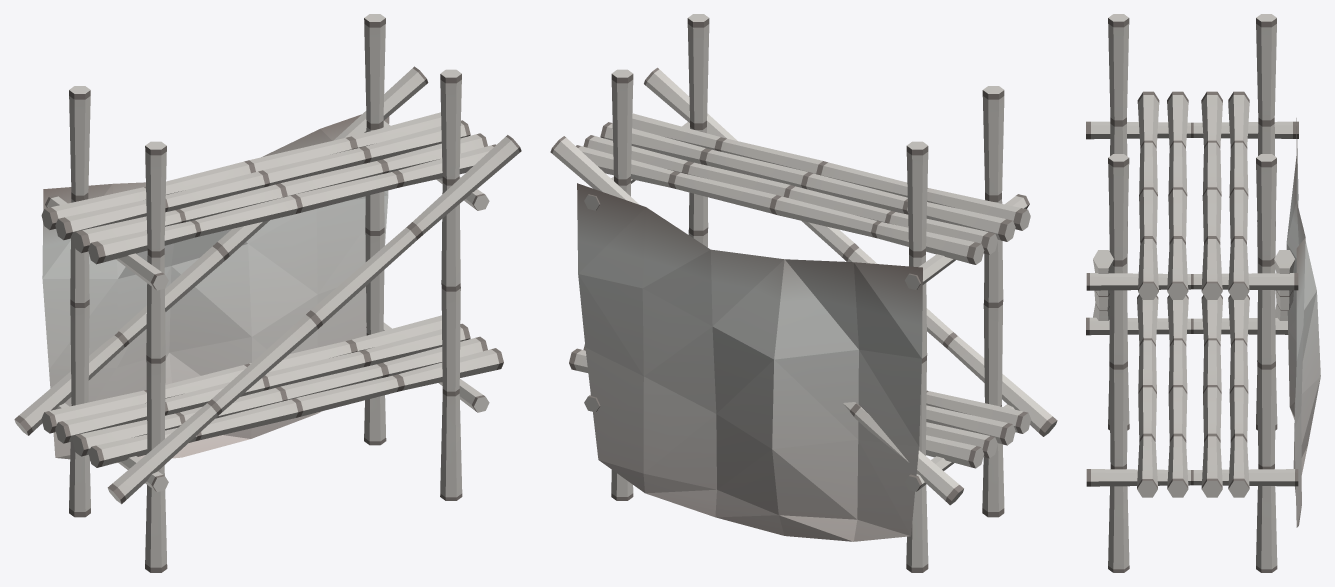
File: Bamboo_forest_3_fabric.fbx
The picture shows the model from 3 angles, left to right: view 1: azimuth 30°, elevation 25°; view 2: azimuth 150°, elevation 25°; view 3: azimuth 270°, elevation 25°; orthographic projection. The views are drawn at different scales.
Visible parts, largest first — view 1: Bamboo_forest_3_fabric; view 2: Bamboo_forest_3_fabric; view 3: Bamboo_forest_3_fabric.
Part boxes in pixels (bbox=[...]): Bamboo_forest_3_fabric: bbox=[14, 14, 521, 572]; Bamboo_forest_3_fabric: bbox=[550, 14, 1057, 572]; Bamboo_forest_3_fabric: bbox=[1086, 14, 1320, 572].
Bounding box in the file's own units: 406 × 399 × 207.
1 material, 1 textured.
